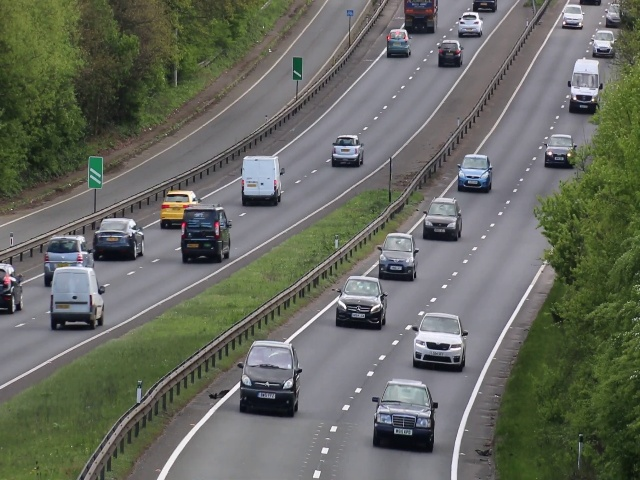car: (236, 341, 301, 414), (373, 380, 435, 454), (47, 265, 109, 329), (412, 311, 467, 371), (181, 206, 231, 264), (336, 275, 385, 330), (238, 154, 285, 210), (93, 217, 145, 260), (377, 233, 418, 282), (42, 233, 93, 272), (423, 197, 462, 241), (569, 61, 599, 115), (458, 152, 492, 192), (1, 262, 25, 312), (545, 132, 575, 170), (332, 131, 365, 164), (403, 1, 437, 33), (457, 9, 485, 39), (161, 190, 182, 228), (591, 27, 617, 57), (438, 38, 463, 68), (386, 28, 411, 57), (562, 5, 584, 29)
